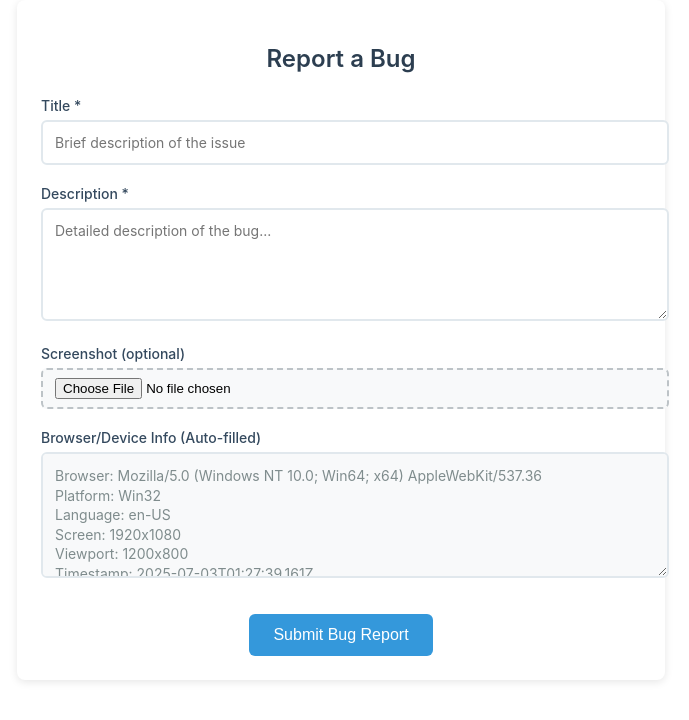
Test: BugReportForm › Error State Handling › shows error message when API submission fails with network error
Type "Bug Title" into the field labelled "Title *" at (355, 142), box [41, 120, 669, 165]
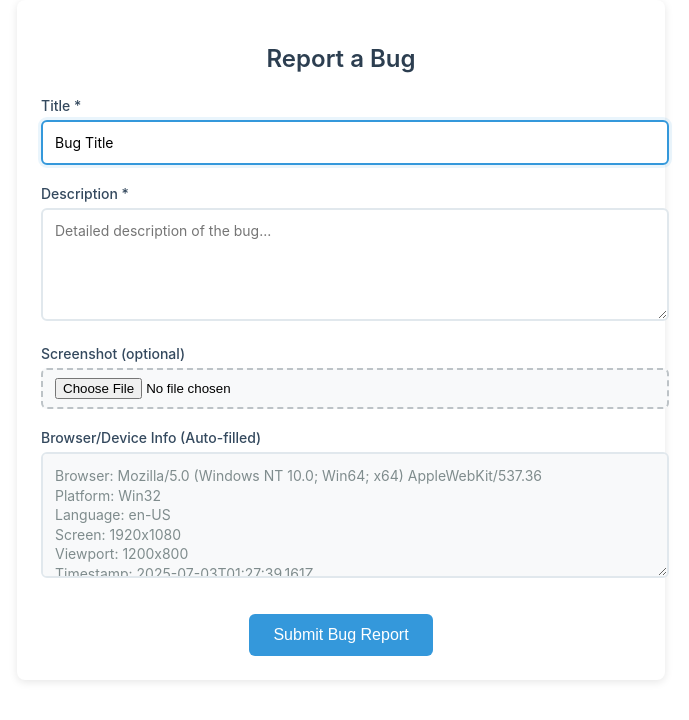
Type "Bug Description" into the text box labelled "Description *" at (355, 264), box [41, 208, 669, 321]
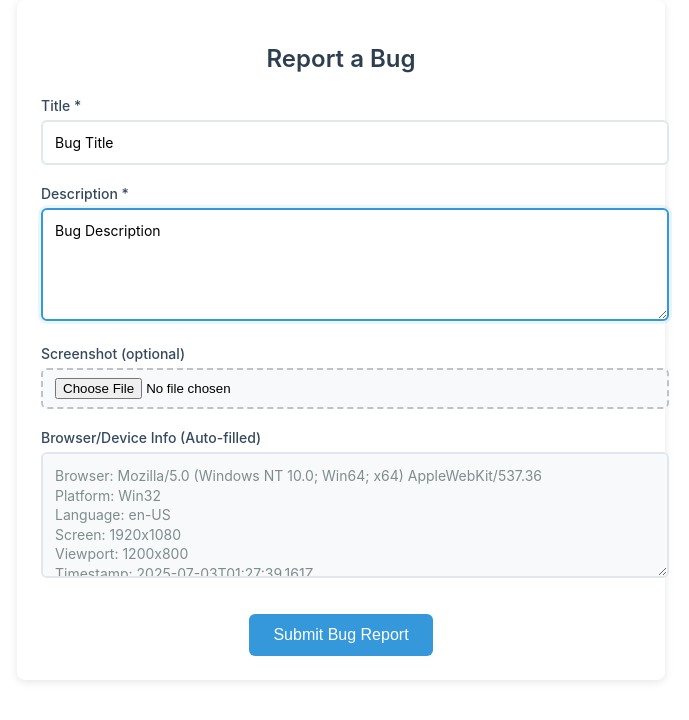
Click the button "Submit Bug Report" at (341, 635), box [249, 614, 433, 656]
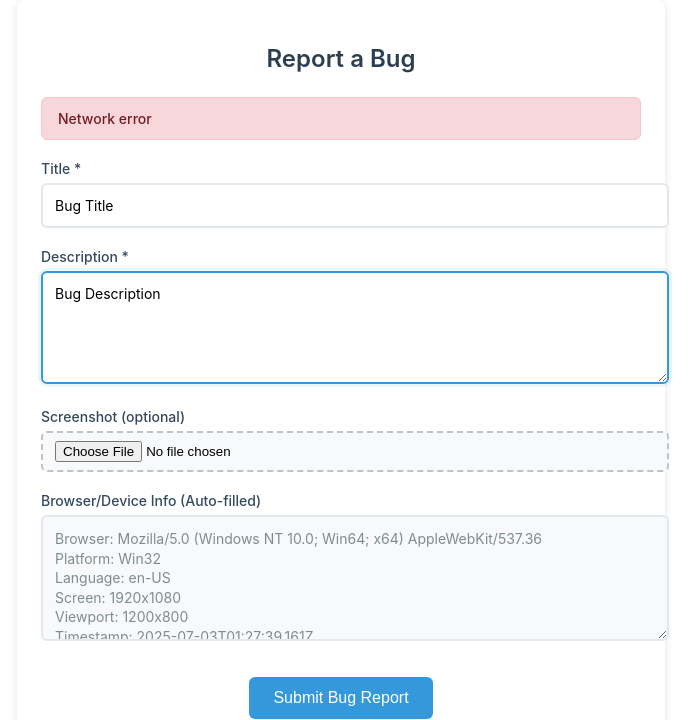
expect the text "Network error" is shown: met, box [41, 97, 641, 140]
